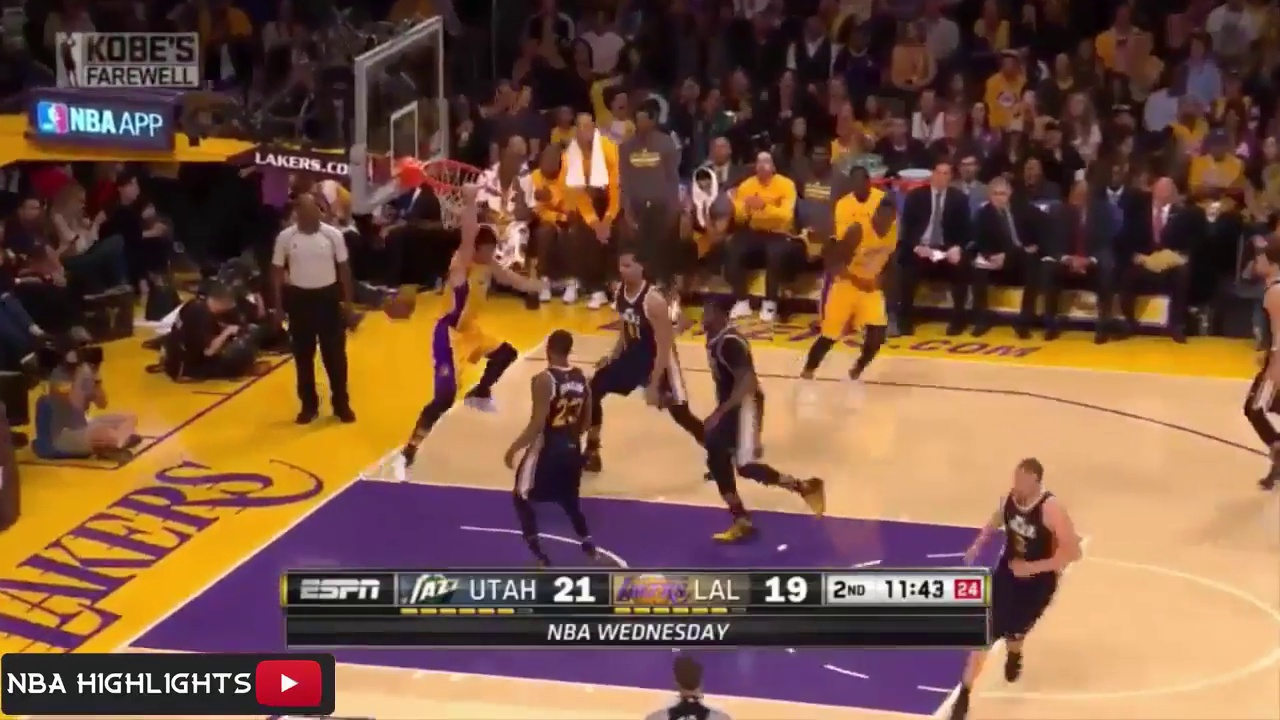jazz: (684, 295, 828, 534), (583, 252, 702, 481), (988, 452, 1083, 692), (508, 332, 598, 556)
lakers: (395, 189, 530, 481), (788, 196, 901, 405)
